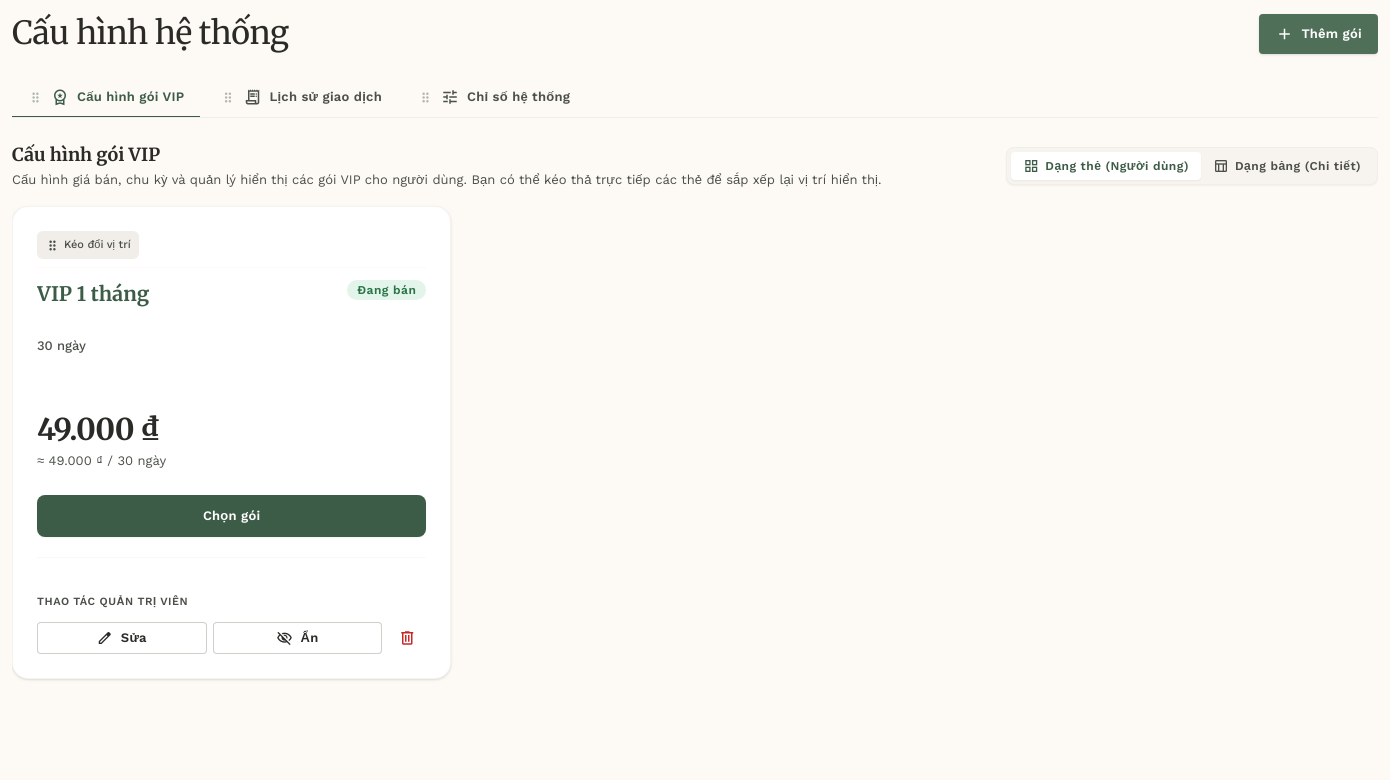
it: SCR-44 Gói VIP & Cấu hình quản trị › chuyển đổi linh hoạt giữa dạng thẻ (Card) và dạng bảng (Table)
Expected: the heading "VIP 1 tháng" is shown, [37,281,149,306]
Note: Chuyển sang dạng bảng chi tiết
Click the button with aria-label "Xem dạng bảng".
click(1287, 166)  # box [1201,152,1373,180]
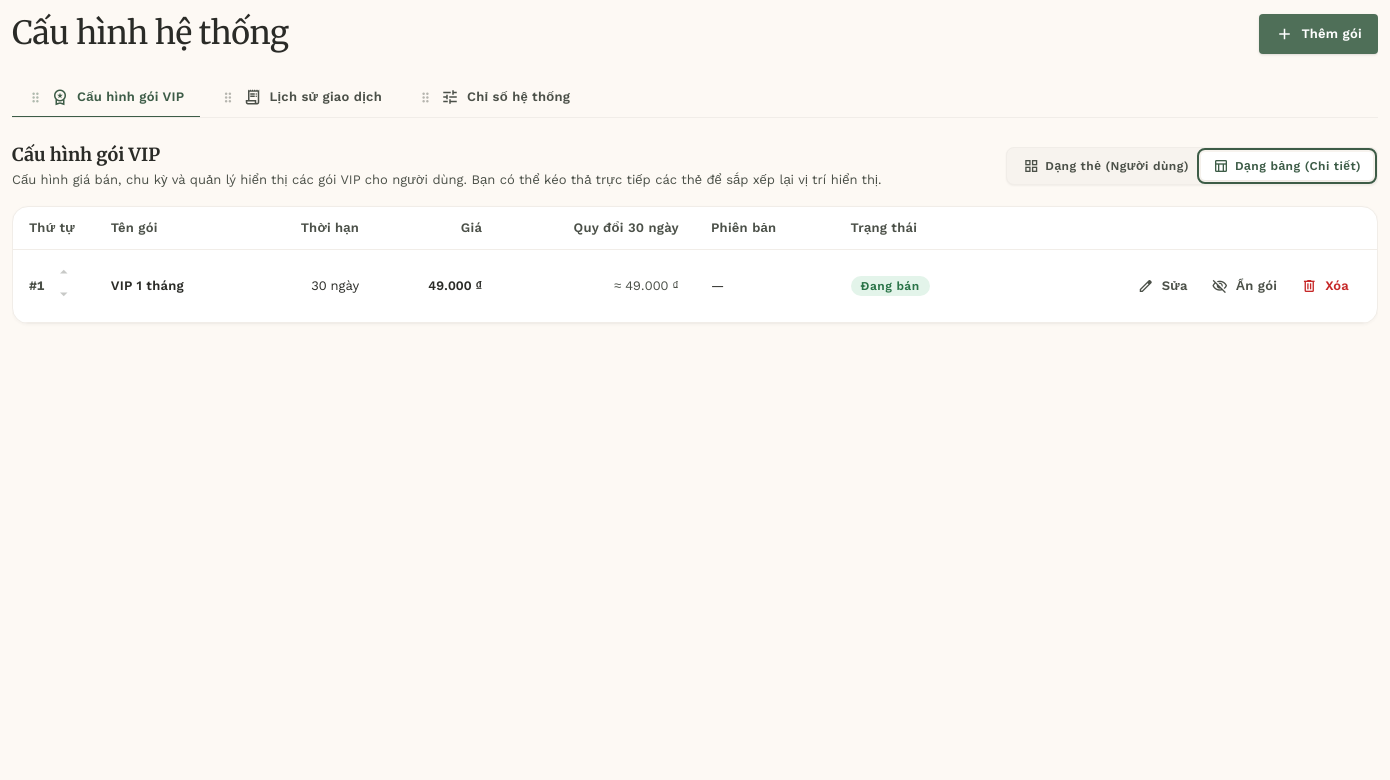
Now the element named "Danh sách gói VIP" is shown, box [12,206,1378,324]
Now the table is shown, box [13,207,1377,323]
Note: Chuyển lại sang dạng thẻ người dùng
Click the button with aria-label "Xem dạng thẻ".
click(1106, 166)  # box [1011,152,1201,180]
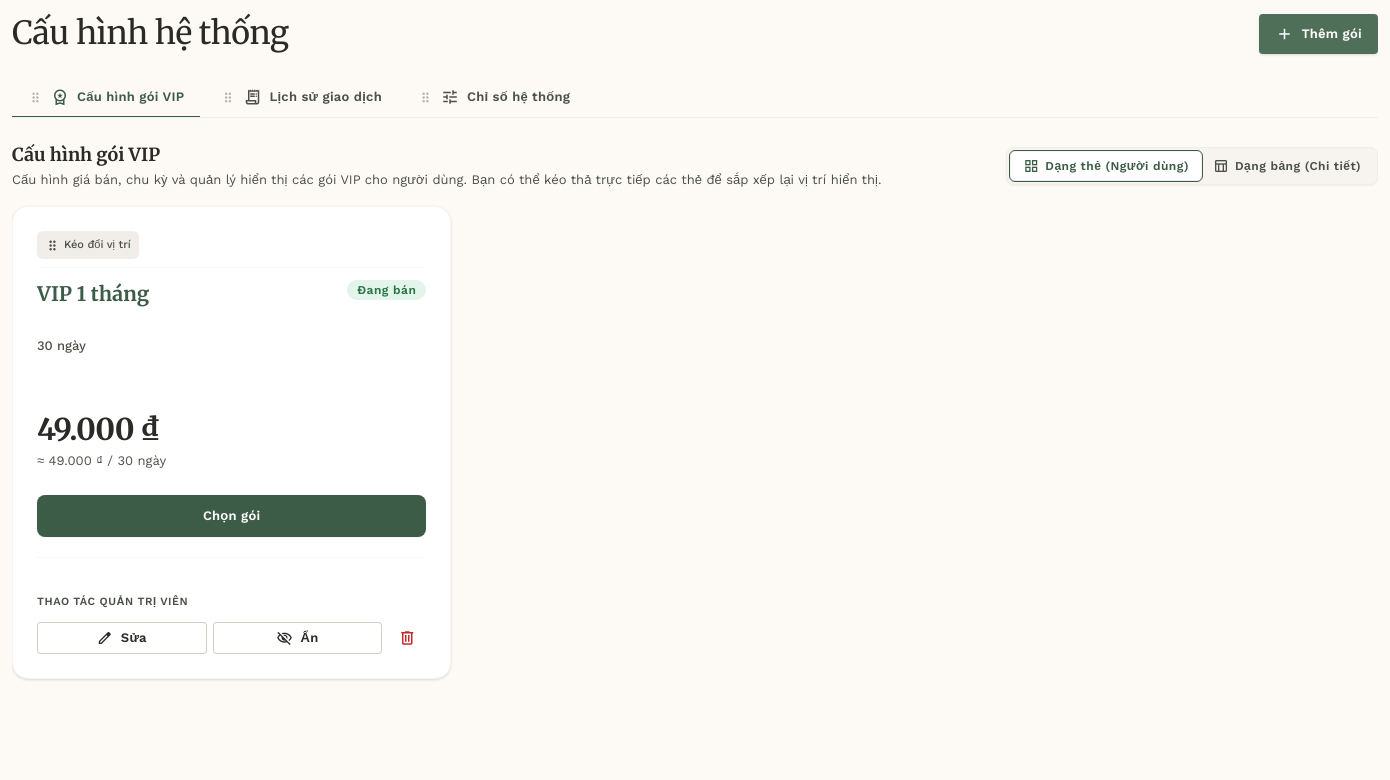
Expected: the heading "VIP 1 tháng" is shown, [37,281,149,306]
Now the table is gone
